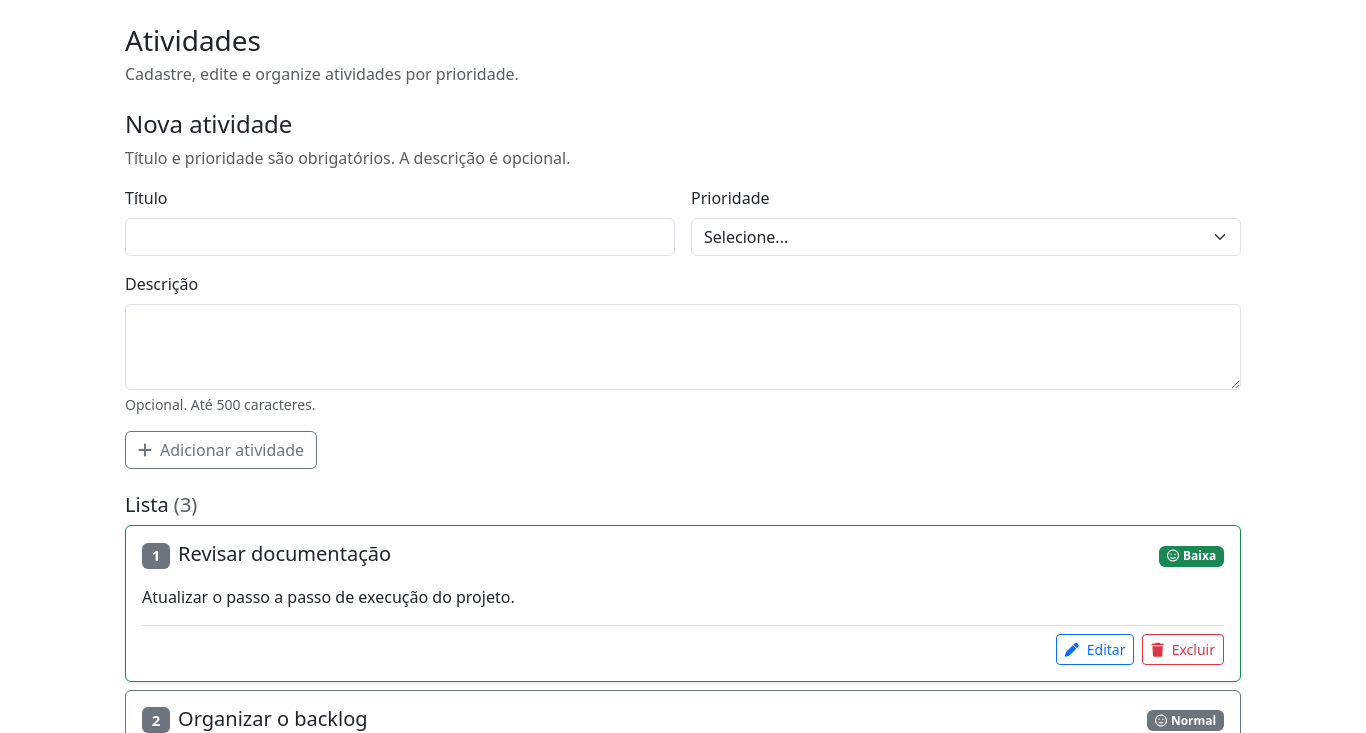
Test: impede salvar sem título e prioridade
The width and height of the screenshot is (1366, 733).
Click the button "Adicionar atividade": [221, 450] box [125,431,317,469]
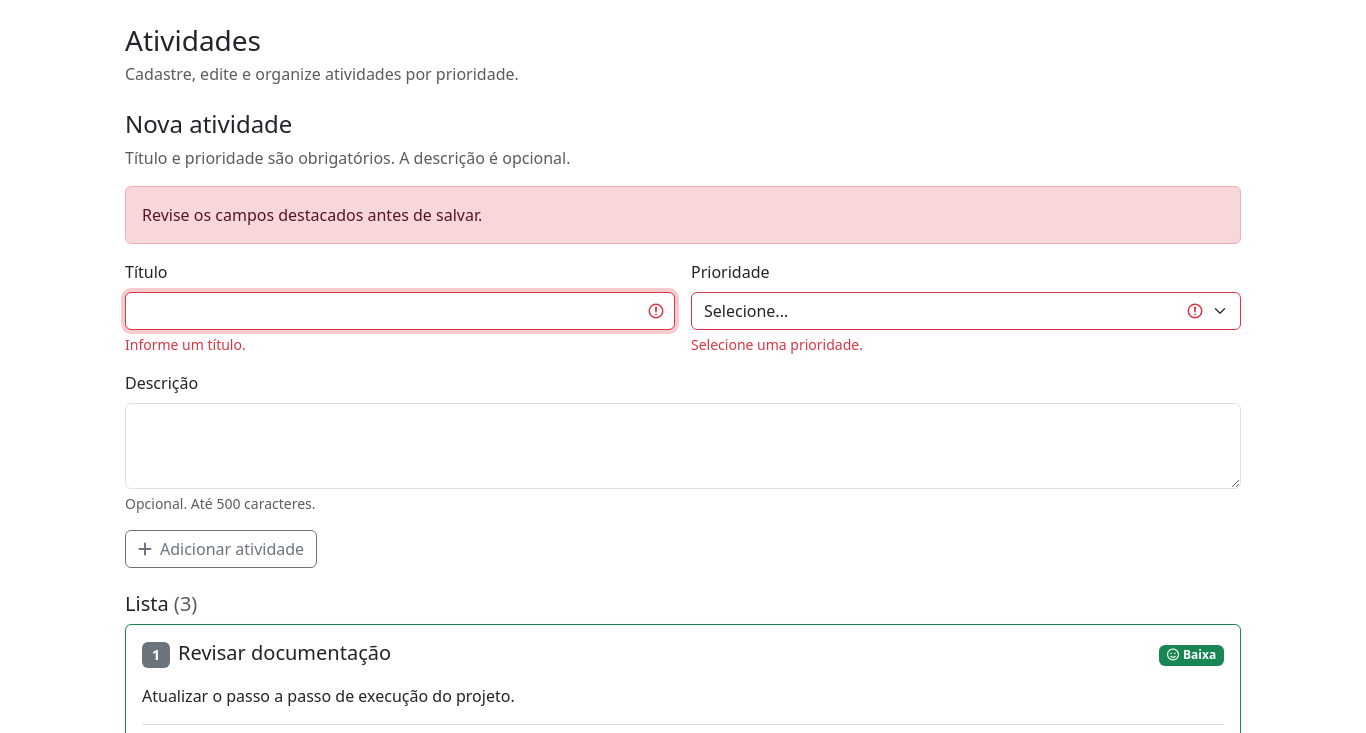
expect the message shows "Revise os campos destacados": met, box [142,204,482,226]
expect the text "Informe um título." is shown: met, box [125,335,246,354]
expect the text "Selecione uma prioridade." is shown: met, box [691,335,863,354]
